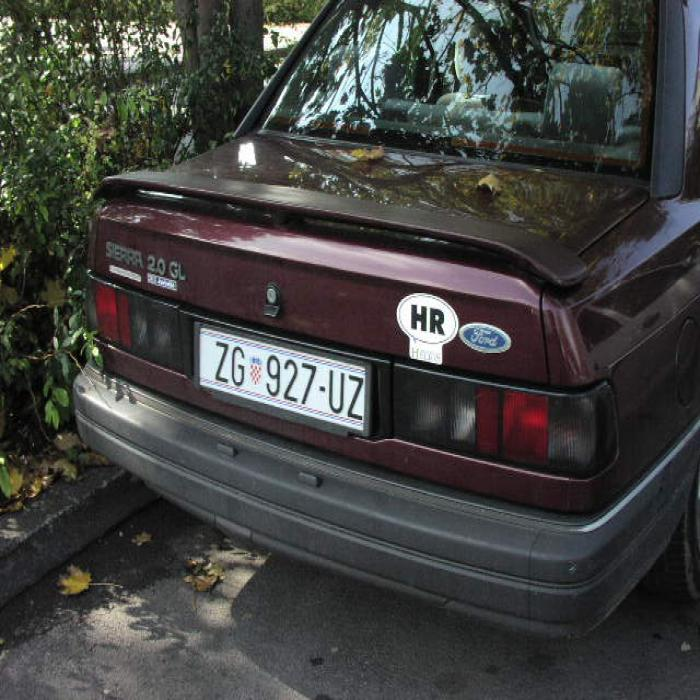number_plate: (198, 330, 365, 429)
